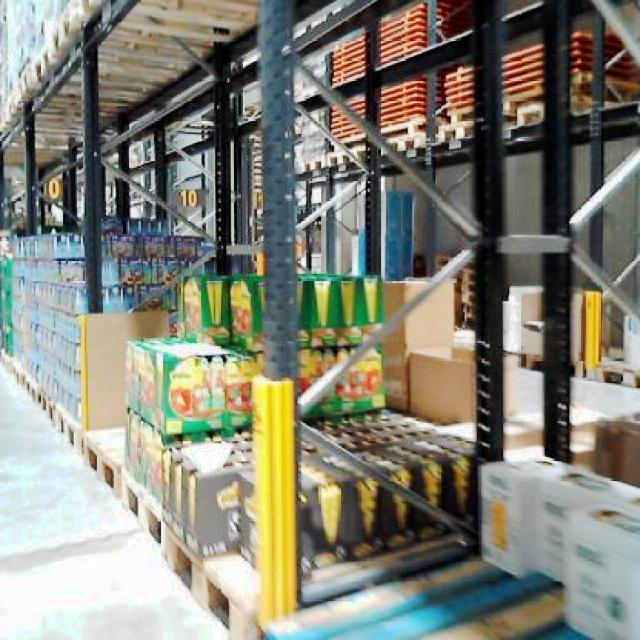ground: (0, 340, 638, 638)
pallet: (2, 229, 217, 448)
